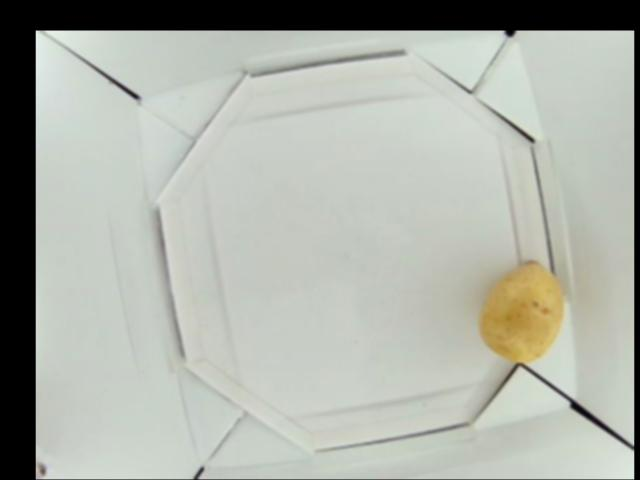Potato: (483, 259, 563, 357)
